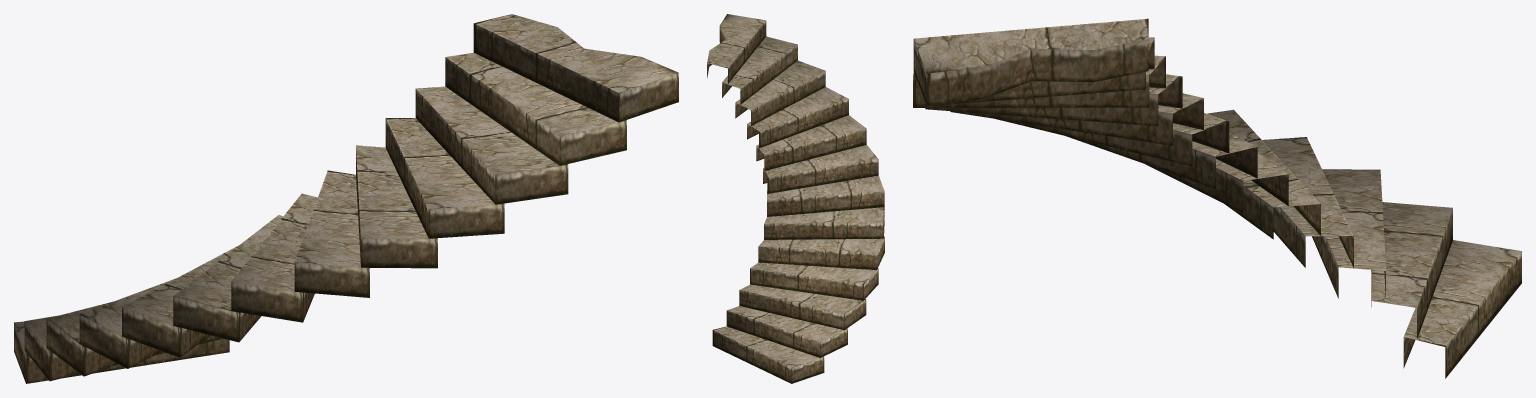
Rendered from OVERHILL_A_01_STONE_STEP02.fbx.
The picture shows the model from 3 angles, left to right: view 1: azimuth 30°, elevation 25°; view 2: azimuth 150°, elevation 25°; view 3: azimuth 270°, elevation 25°; orthographic projection. The views are drawn at different scales.
Visible parts, largest first — view 1: OVERHILL_A_01_STONE_STEP02; view 2: OVERHILL_A_01_STONE_STEP02; view 3: OVERHILL_A_01_STONE_STEP02.
Boxes of the visible parts, x1,y1,x2,y2 form: OVERHILL_A_01_STONE_STEP02: (14, 14, 678, 383); OVERHILL_A_01_STONE_STEP02: (707, 14, 884, 383); OVERHILL_A_01_STONE_STEP02: (913, 18, 1521, 378).
Bounding box in the file's own units: 42770 × 36851 × 48656.
1 material, 1 textured.
